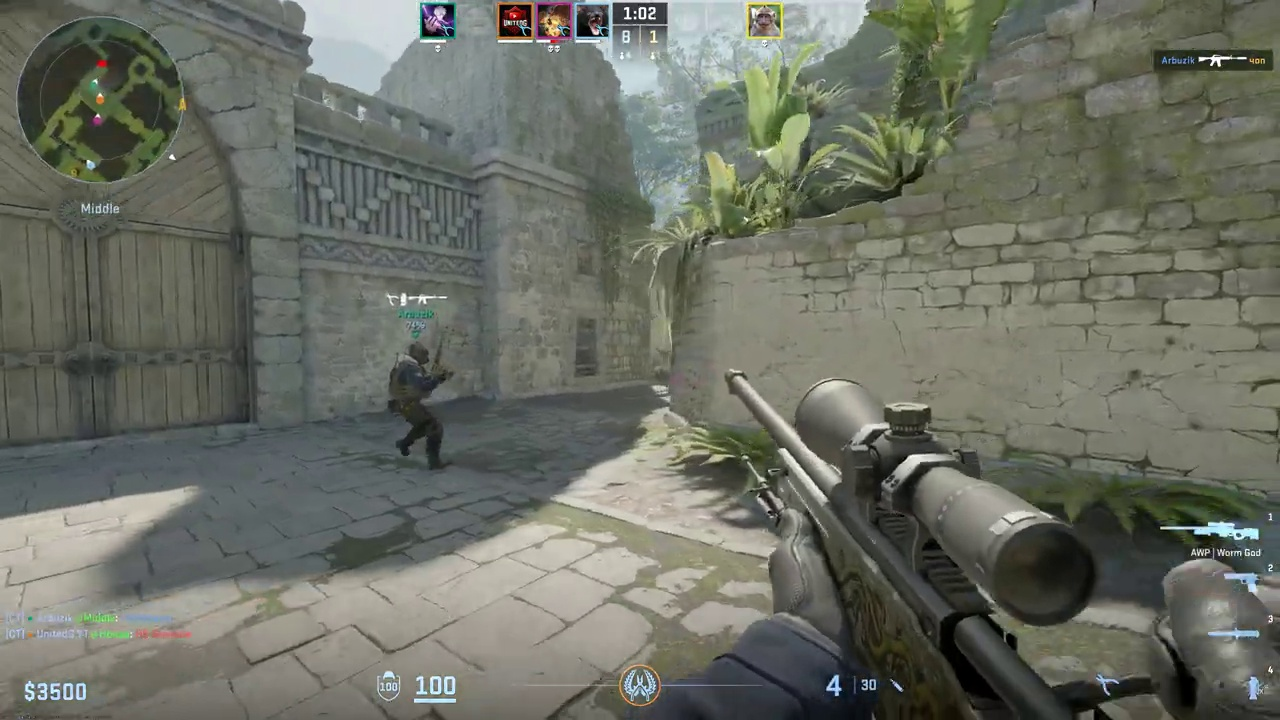CT: (390, 342, 442, 470)
